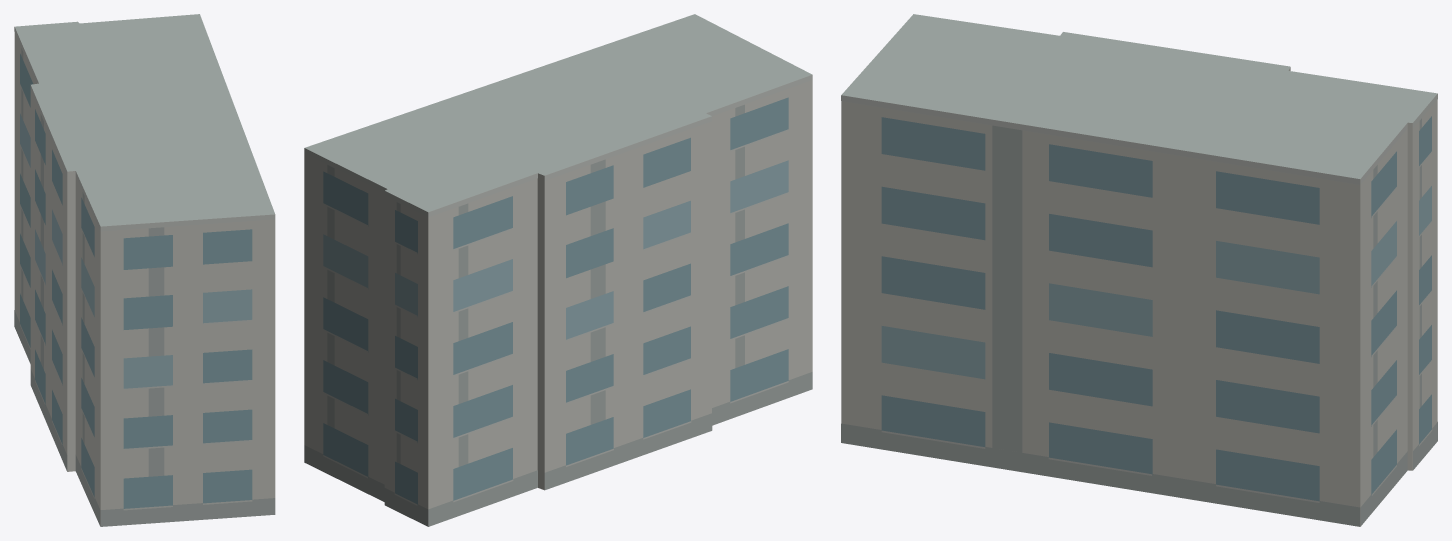
The model's file is survey-upis-32882675.glb.
3 views of the same model, side by side, from view 1: azimuth 30°, elevation 25°; view 2: azimuth 150°, elevation 25°; view 3: azimuth 270°, elevation 25° (orthographic). The views are drawn at different scales.
Parts seen in each view (by area): view 1: survey-upis-32882675.tmp; view 2: survey-upis-32882675.tmp; view 3: survey-upis-32882675.tmp.
Part boxes in pixels (x1=…): survey-upis-32882675.tmp: x1=14, y1=14, x2=275, y2=526; survey-upis-32882675.tmp: x1=304, y1=14, x2=812, y2=526; survey-upis-32882675.tmp: x1=841, y1=14, x2=1437, y2=526.
Size of the model in its own units: 14.68 by 14.4 by 22.4.
